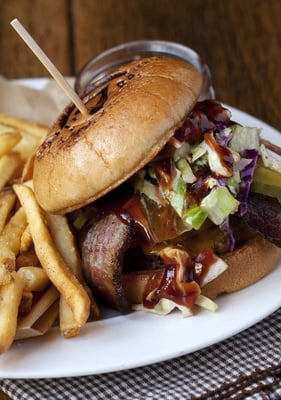salad: (10, 17, 93, 122)
